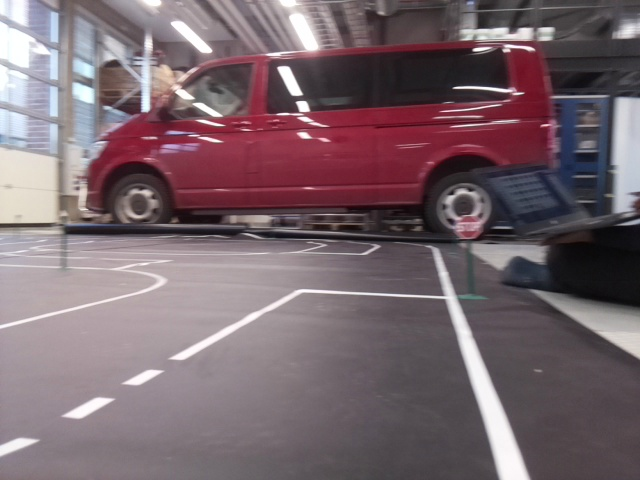Stop: (454, 215, 482, 241)
